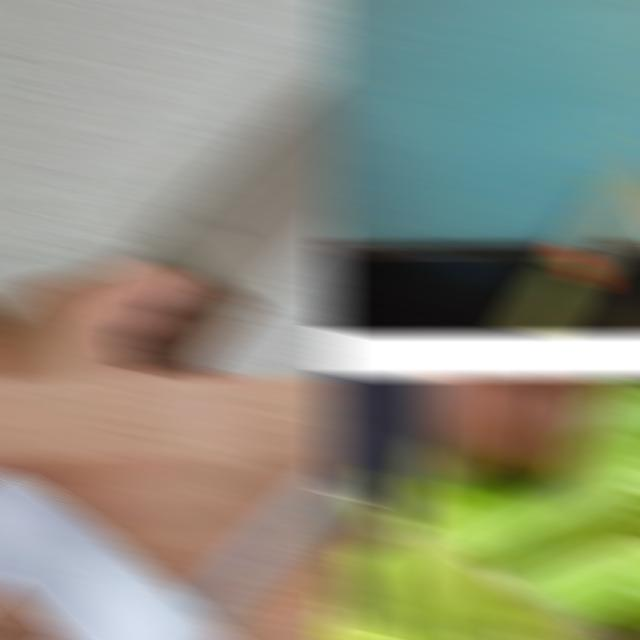Knife: (118, 78, 342, 373), (0, 468, 233, 640), (504, 160, 640, 334)
Knife_Handle: (0, 0, 342, 379), (322, 375, 640, 640)
